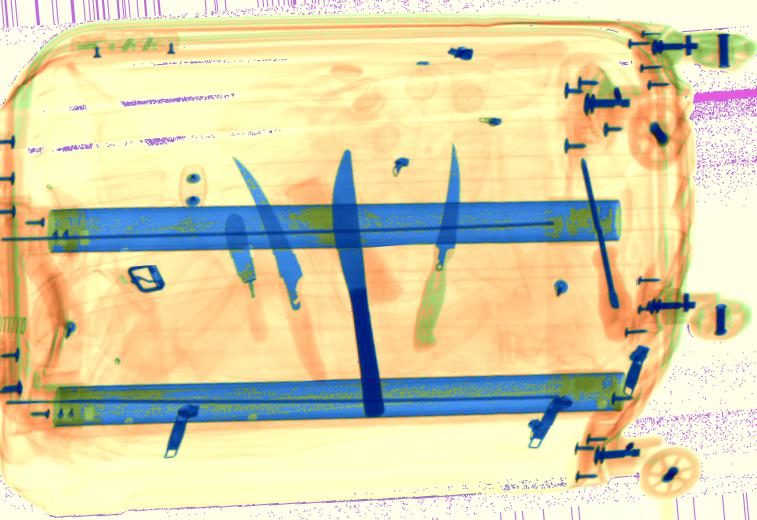Knife: (331, 149, 386, 418), (231, 156, 307, 315), (411, 143, 463, 352), (222, 214, 258, 296)
